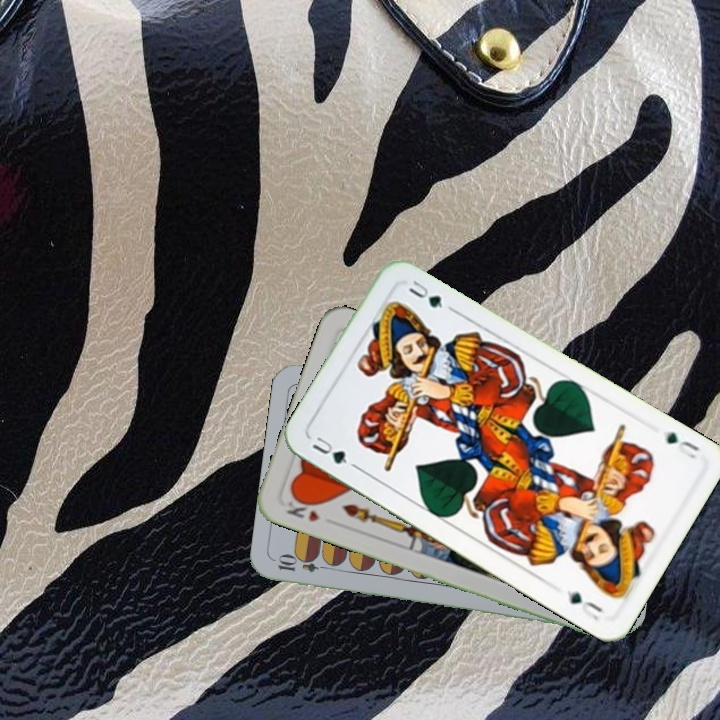E10: (274, 554, 333, 575)
GU: (308, 432, 359, 471), (662, 427, 703, 462)
HK: (282, 492, 322, 525)
